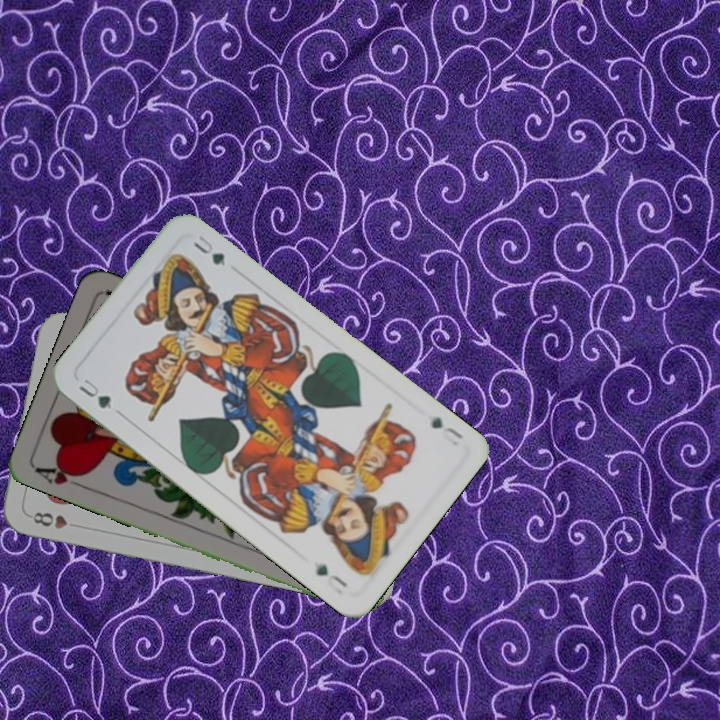GU: (74, 374, 115, 412), (427, 411, 466, 449)
H8: (28, 507, 83, 532)
HA: (31, 459, 90, 492)
